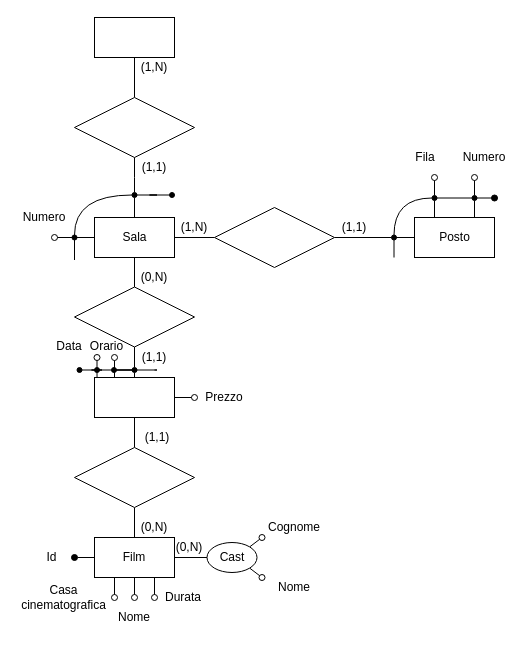
Some shapes in this 523 by 645 pixel diagram are drawn without their labels. The shapes that lost their labels are listed below. From the top down, each one's box as (x1, y1, x2, y2) in pixels, then its label:
(94, 16, 174, 58): Cinema
(94, 376, 174, 418): Proiezione
